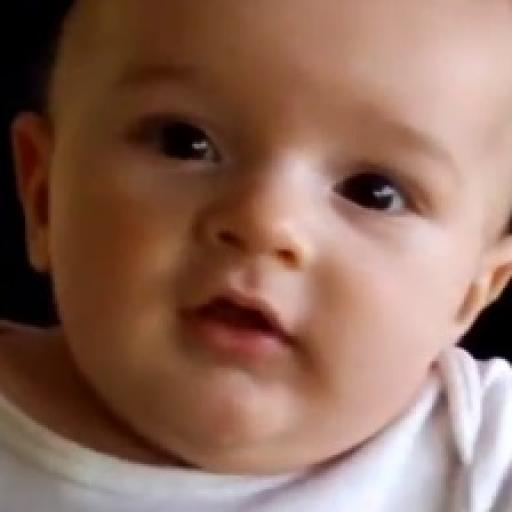Autism: (64, 0, 510, 457)
